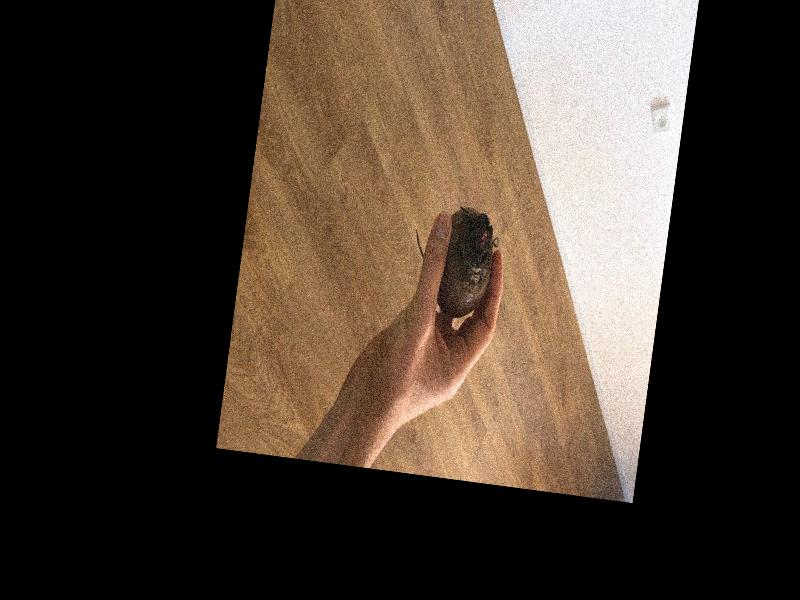Beet: (405, 200, 500, 321)
